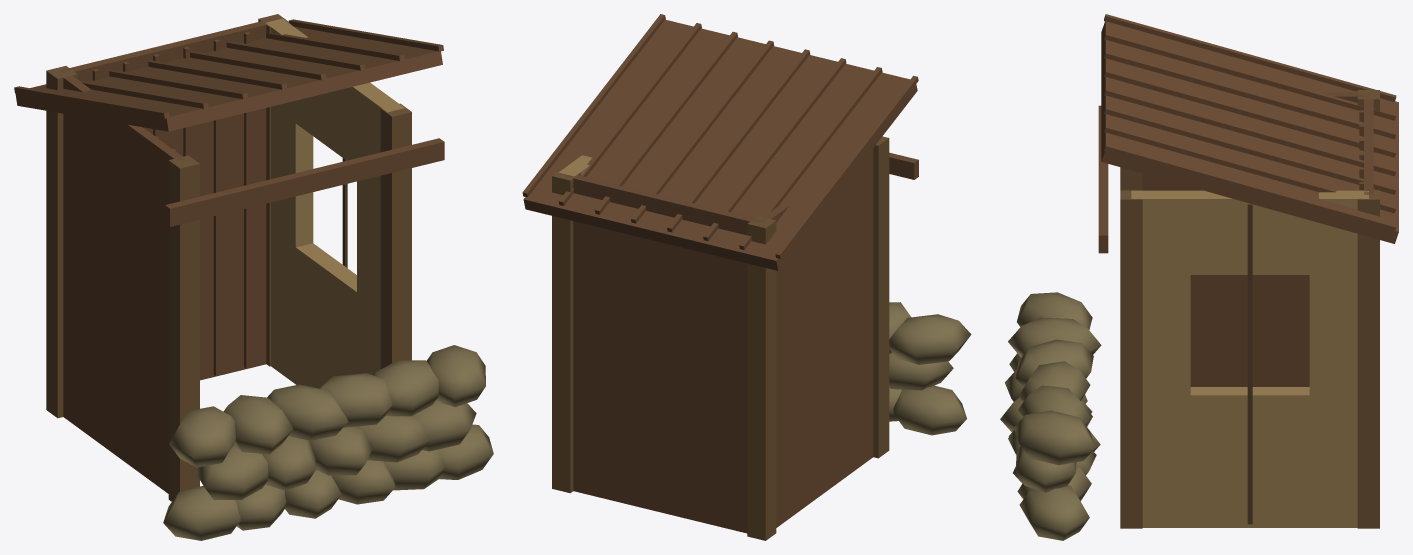
Rendered from bldg_guard_post.glb.
3 renders of one model, left to right at view 1: azimuth 30°, elevation 25°; view 2: azimuth 150°, elevation 25°; view 3: azimuth 270°, elevation 25°, orthographic. The views are drawn at different scales.
Parts seen in each view (by area): view 1: WallPanel_Tin (×2), SandbagBasePanel, WallPanel_Finished, CornerPost (×4), RoofPanel_Sloped, RoofDeck; view 2: WallPanel_Tin (×2), RoofDeck, CornerPost (×3), RoofPanel_Sloped, SandbagBasePanel; view 3: WallPanel_Finished, RoofDeck, RoofPanel_Sloped, SandbagBasePanel, CornerPost (×3), WallPanel_Tin (×2).
Part boxes in pixels (left/top/right/bottom): WallPanel_Tin (×2): left=58, top=19, right=273, bottom=493; SandbagBasePanel: left=163, top=345, right=493, bottom=540; WallPanel_Finished: left=265, top=18, right=404, bottom=388; CornerPost (×4): left=46, top=14, right=411, bottom=501; RoofPanel_Sloped: left=14, top=19, right=444, bottom=226; RoofDeck: left=15, top=26, right=442, bottom=131; WallPanel_Tin (×2): left=565, top=148, right=873, bottom=533; RoofDeck: left=523, top=19, right=917, bottom=270; CornerPost (×3): left=552, top=136, right=889, bottom=540; RoofPanel_Sloped: left=522, top=14, right=918, bottom=258; SandbagBasePanel: left=889, top=302, right=971, bottom=435; WallPanel_Finished: left=1131, top=190, right=1368, bottom=527; RoofDeck: left=1101, top=21, right=1398, bottom=243; RoofPanel_Sloped: left=1098, top=14, right=1396, bottom=253; SandbagBasePanel: left=1000, top=292, right=1101, bottom=540; CornerPost (×3): left=1120, top=167, right=1379, bottom=528; WallPanel_Tin (×2): left=1142, top=92, right=1373, bottom=386.
Size of the model in its own units: 2.66 by 3.12 by 2.86.
